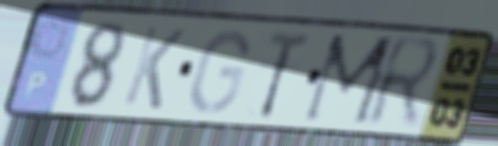8: (69, 18, 129, 110)
G: (187, 27, 253, 117)
K: (119, 22, 189, 113)
M: (298, 30, 402, 129)
R: (361, 32, 446, 133)
T: (256, 27, 315, 122)
